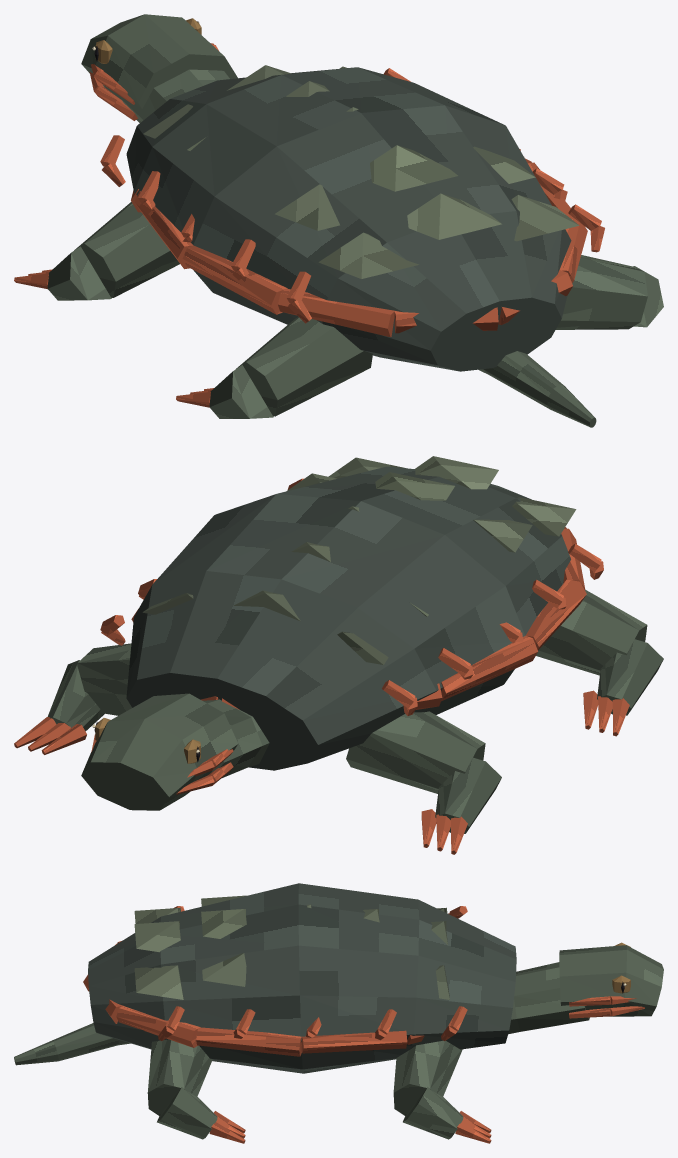
The model's file is mon_turtle_painted.glb.
The picture shows the model from 3 angles, top to bottom: view 1: azimuth 30°, elevation 25°; view 2: azimuth 150°, elevation 25°; view 3: azimuth 270°, elevation 25°; orthographic projection. The views are drawn at different scales.
Visible parts, largest first — view 1: closed_body; view 2: closed_body; view 3: closed_body.
Boxes of the visible parts, <box> form: closed_body: <box>14,14,663,427</box>; closed_body: <box>14,456,663,854</box>; closed_body: <box>14,883,663,1143</box>.
Bounding box in the file's own units: 0.1594 × 0.0734 × 0.267.
Materials: 1 (1 with a texture image).
